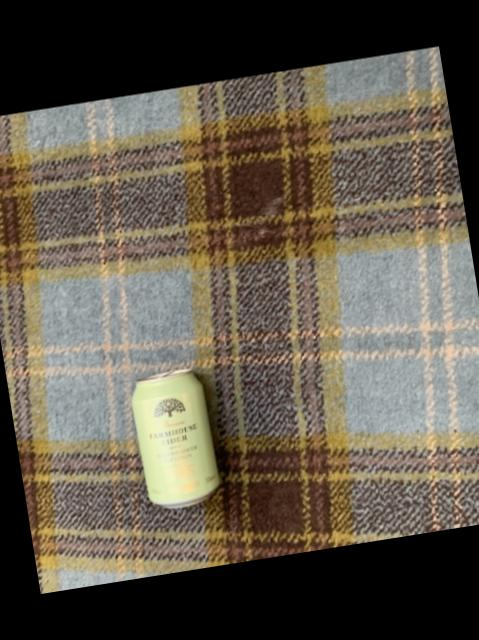metal: (130, 370, 218, 509)
